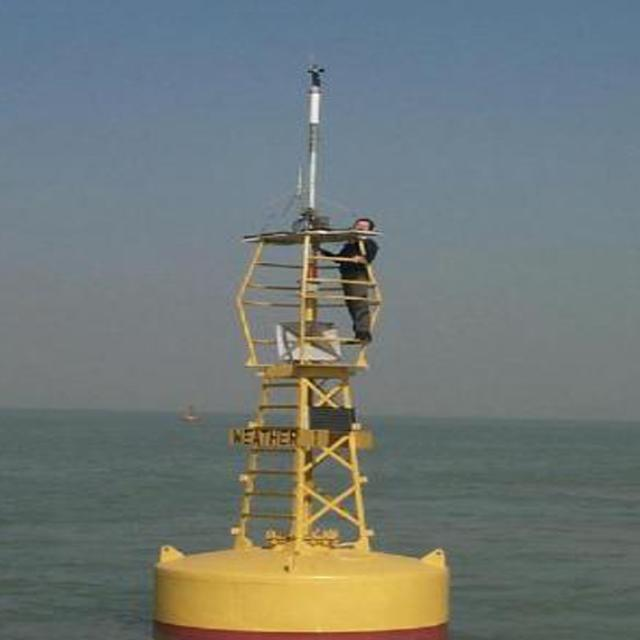buoy: (153, 57, 460, 640)
